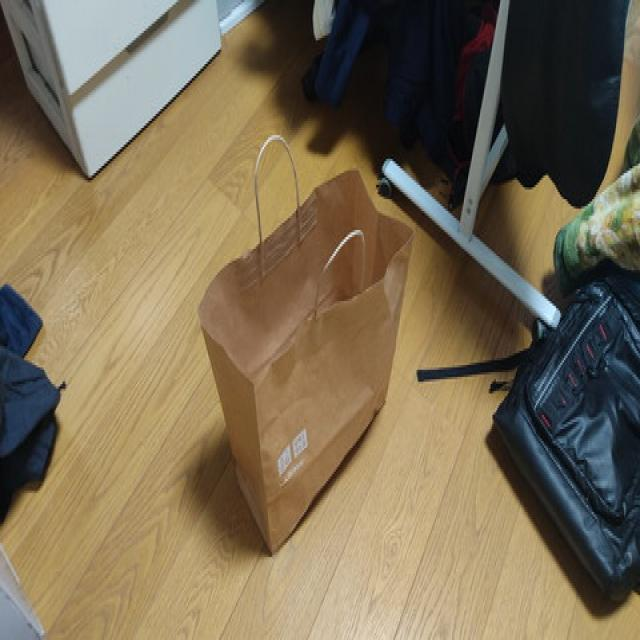paper bag: (194, 127, 417, 562)
